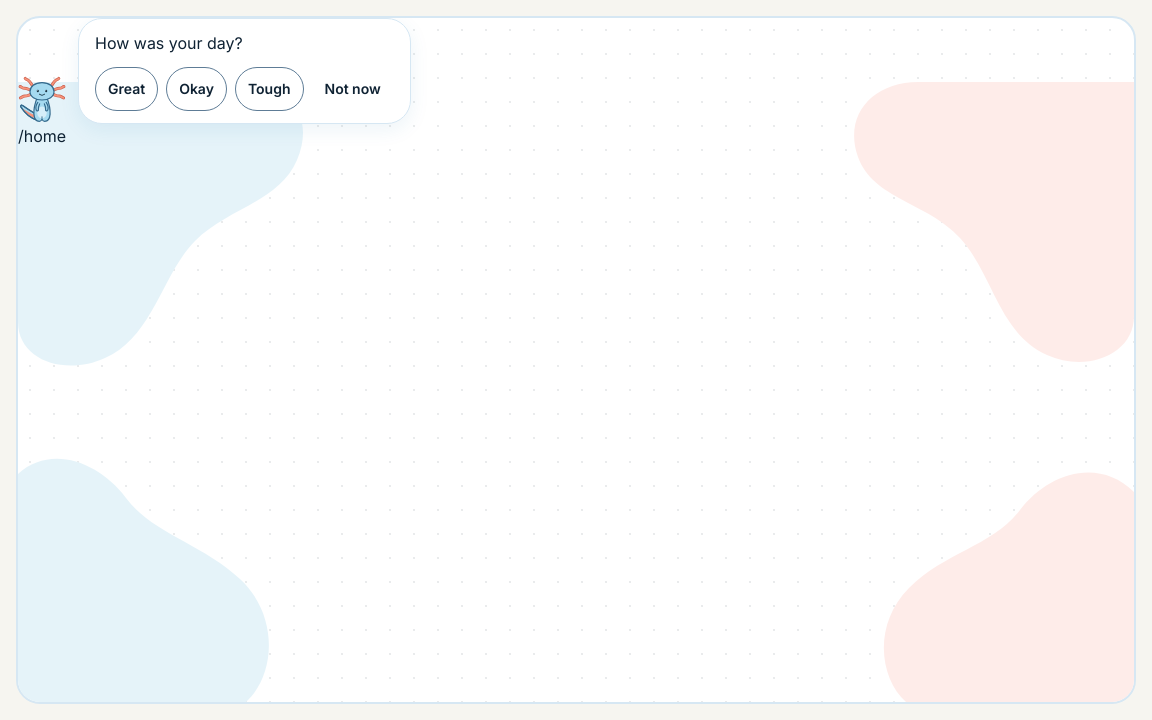
Test: LotiBubbles › Loti talks while each new bubble enters, then settles
The width and height of the screenshot is (1152, 720).
Expected: the picture named "talking" is shown, top-left (18, 76), bottom-right (66, 124)
Click the button "Great" at (127, 89), box top-left (95, 67), bottom-right (158, 111)
Wait 2040 ms
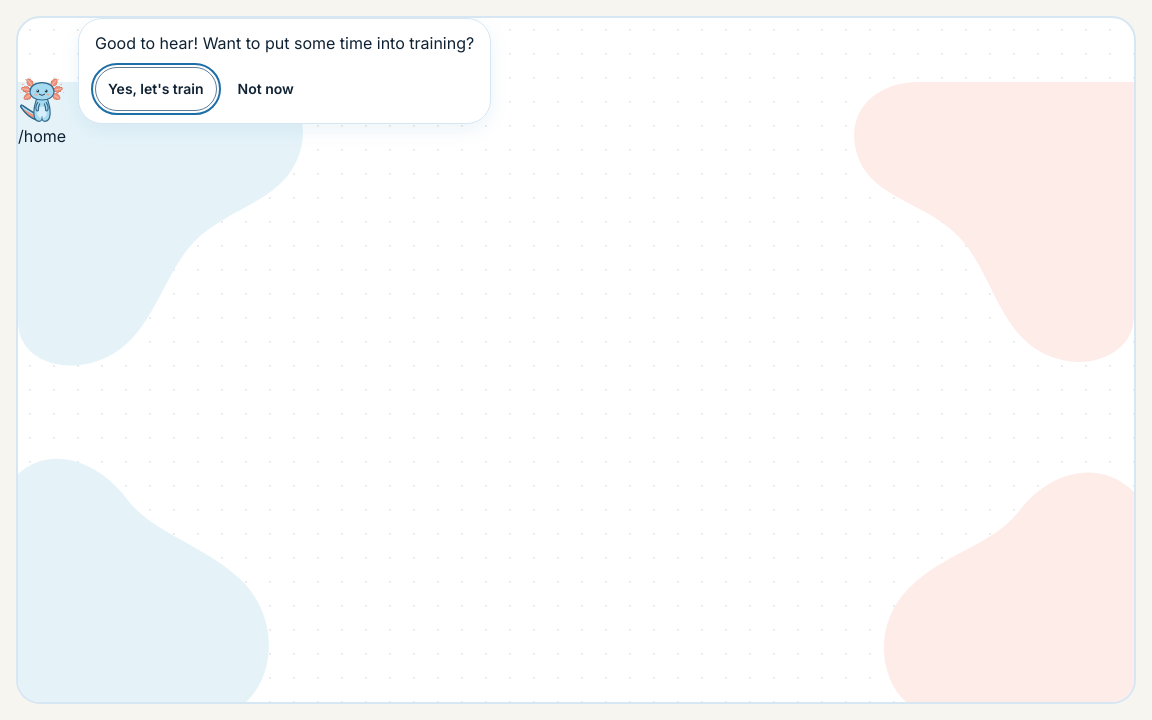
Result: the picture named "happy" is shown at top-left (18, 76), bottom-right (66, 124)
